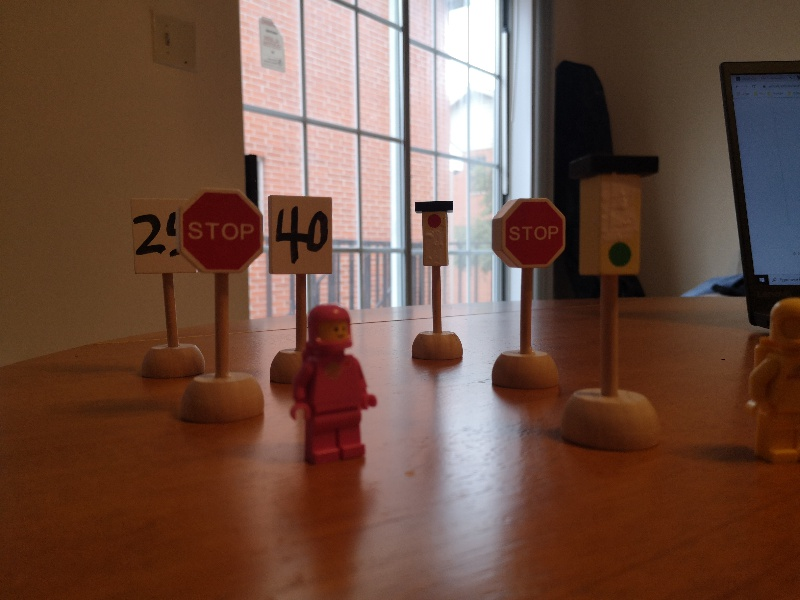Green Traffic Light: (577, 156, 660, 276)
Person: (295, 305, 379, 461), (747, 299, 800, 462)
Red Traffic Light: (414, 198, 455, 268)
Speed Limit 25: (129, 197, 198, 276)
Speed Limit 40: (267, 194, 336, 275)
Stop Sign: (181, 189, 263, 275), (491, 197, 569, 270)
